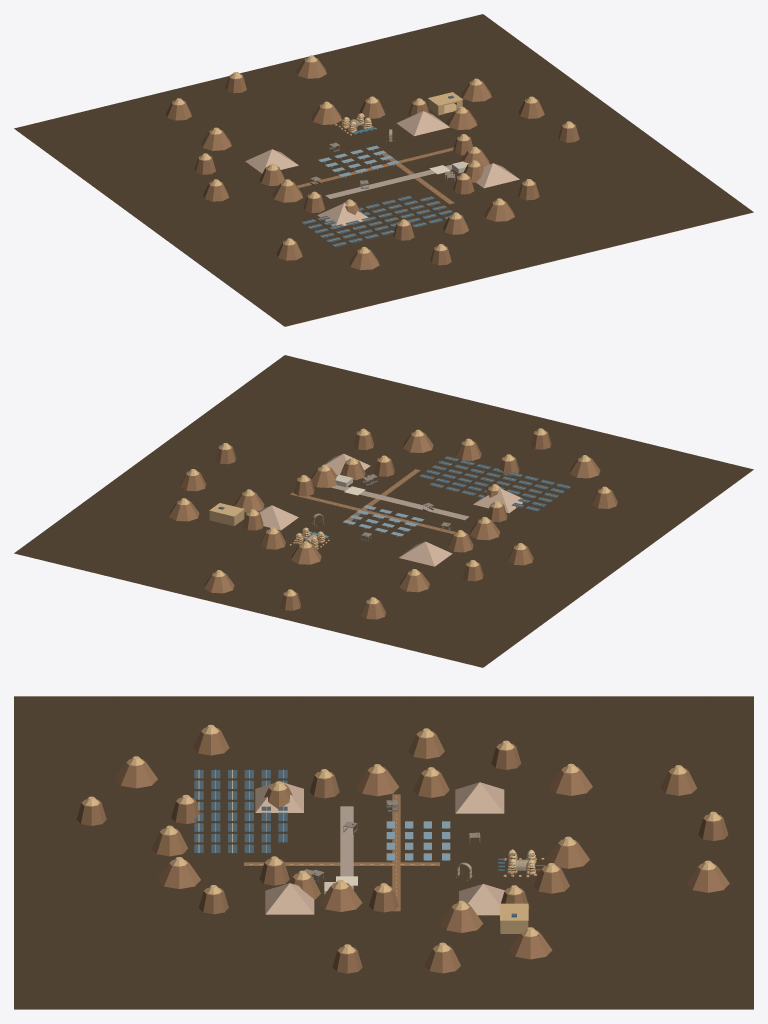
3 renders of one model, top to bottom at view 1: azimuth 30°, elevation 25°; view 2: azimuth 150°, elevation 25°; view 3: azimuth 270°, elevation 25°, orthographic. The views are drawn at different scales.
Parts seen in each view (by area): view 1: Runtime FPV textured terrain sunscar, Runtime sunscar_1_0_0, Runtime #996e50, Runtime sunscar_2_0_0, Runtime sunscar_3_0_0, Runtime #416477, Runtime #795f4d, Runtime sunscar_0_0_0, Runtime sunscar_4_0_0; view 2: Runtime FPV textured terrain sunscar, Runtime sunscar_1_0_0, Runtime sunscar_2_0_0, Runtime #996e50, Runtime sunscar_3_0_0, Runtime #416477, Runtime #795f4d, Runtime sunscar_0_0_0, Runtime sunscar_4_0_0; view 3: Runtime FPV textured terrain sunscar, Runtime sunscar_1_0_0, Runtime #996e50, Runtime sunscar_2_0_0, Runtime sunscar_3_0_0, Runtime #416477, Runtime #795f4d, Runtime sunscar_0_0_0, Runtime sunscar_4_0_0.
Boxes of the visible parts, x1,y1,x2,y2 form: Runtime FPV textured terrain sunscar: [14, 14, 753, 326]; Runtime sunscar_1_0_0: [166, 58, 579, 270]; Runtime #996e50: [245, 111, 519, 226]; Runtime sunscar_2_0_0: [173, 55, 574, 253]; Runtime sunscar_3_0_0: [301, 95, 454, 246]; Runtime #416477: [318, 145, 399, 176]; Runtime #795f4d: [325, 164, 452, 198]; Runtime sunscar_0_0_0: [15, 129, 753, 326]; Runtime sunscar_4_0_0: [303, 155, 450, 245]; Runtime FPV textured terrain sunscar: [14, 355, 753, 667]; Runtime sunscar_1_0_0: [168, 430, 617, 619]; Runtime sunscar_2_0_0: [178, 428, 610, 604]; Runtime #996e50: [258, 453, 522, 566]; Runtime sunscar_3_0_0: [218, 456, 571, 511]; Runtime #416477: [343, 505, 424, 536]; Runtime #795f4d: [330, 485, 469, 520]; Runtime sunscar_0_0_0: [14, 470, 752, 667]; Runtime sunscar_4_0_0: [308, 457, 569, 531]; Runtime FPV textured terrain sunscar: [14, 696, 753, 1009]; Runtime sunscar_1_0_0: [76, 727, 729, 973]; Runtime #996e50: [255, 782, 504, 915]; Runtime sunscar_2_0_0: [83, 724, 721, 953]; Runtime sunscar_3_0_0: [194, 770, 516, 917]; Runtime #416477: [386, 821, 450, 860]; Runtime #795f4d: [340, 806, 353, 889]; Runtime sunscar_0_0_0: [14, 1009, 753, 1009]; Runtime sunscar_4_0_0: [198, 769, 434, 895].
Size of the model in its own units: 880 by 29.28 by 880.
24 materials, 8 textured.
